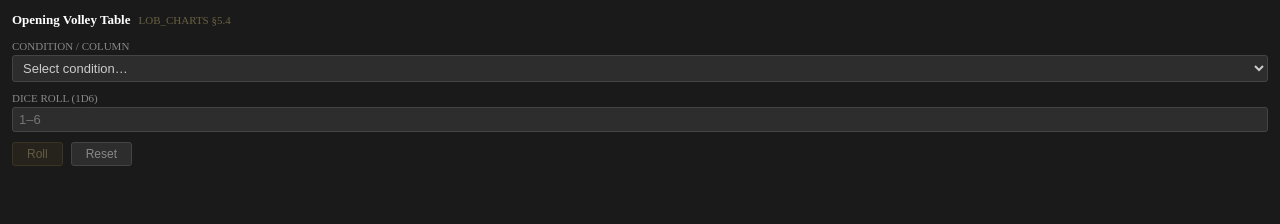
Test case: OpeningVolleyPanel › displays SP loss after successful POST
Select "Charge" in the dropdown labelled "Condition / Column" at (640, 68), box x1=12 y1=55 x2=1268 y2=82
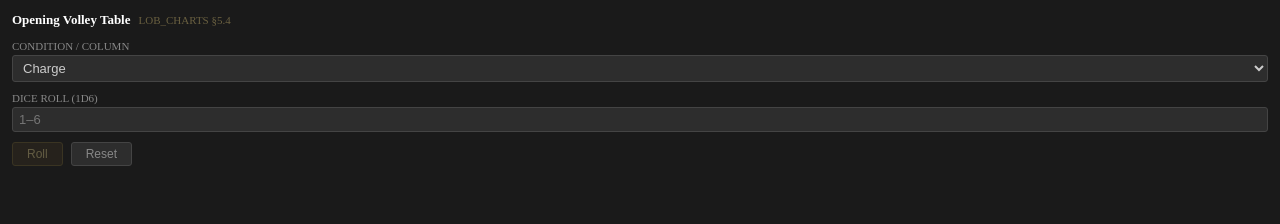
Type "5" into the number field labelled "Dice Roll (1d6)".
click(640, 120); type("5")  # box x1=12 y1=107 x2=1268 y2=132
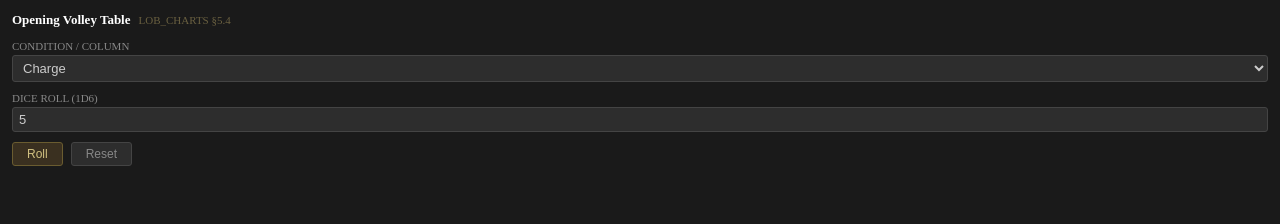
Click the button "Roll".
click(37, 154)  # box x1=12 y1=142 x2=63 y2=166
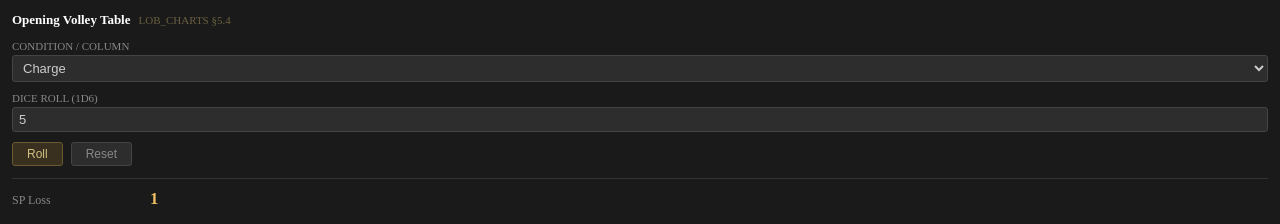
Expected: the text "1" is shown, x1=12 y1=92 x2=98 y2=104
Now the text "SP Loss" is shown, box x1=12 y1=193 x2=51 y2=207
